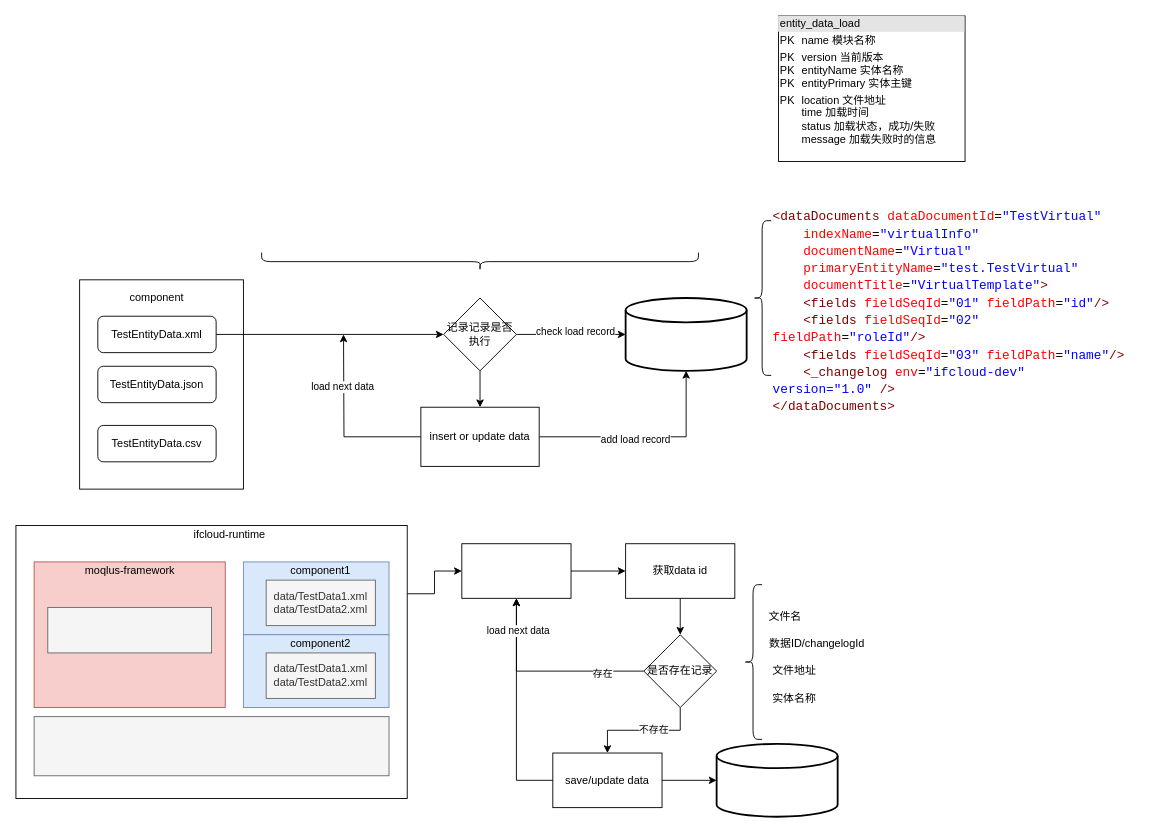
The diagram is 1151 pixels wide and 834 high, and some of its shapes have lost their labels. Here are the shapes that lost their labels. From the top down, the box of each, then its label:
(624, 297, 747, 371): entity_data_load
(461, 543, 571, 598): 读取data文件
(47, 607, 212, 653): data/AutomationData.xml data/AutomationData.xml ......
(33, 716, 389, 776): changelog/1.0.0/update.xml chnagelog/1.1.0/update.xml
(715, 743, 838, 817): entity_data_changelog
